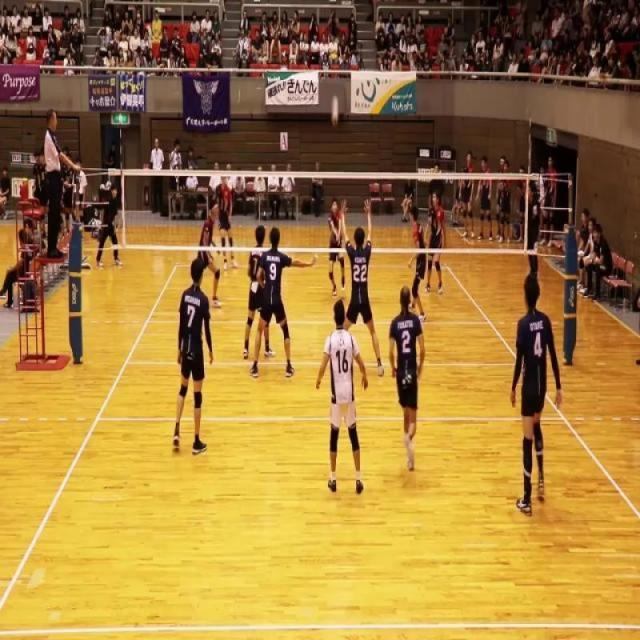volleyball: (331, 95, 339, 126)
